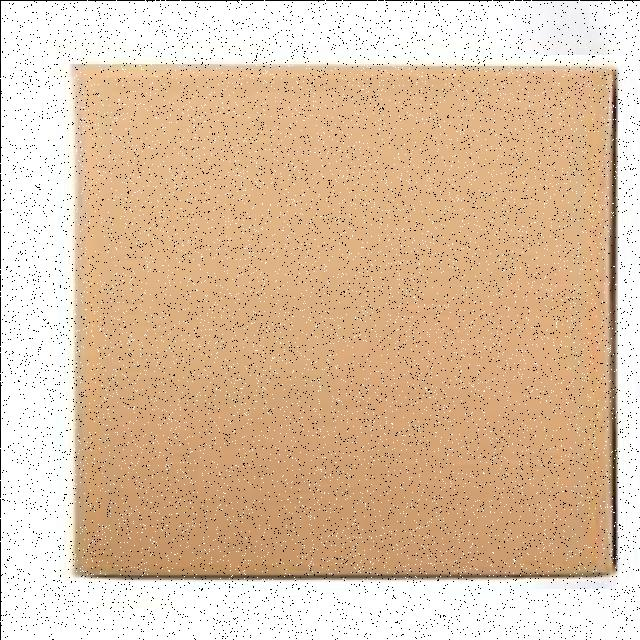normal: (64, 54, 628, 588)
